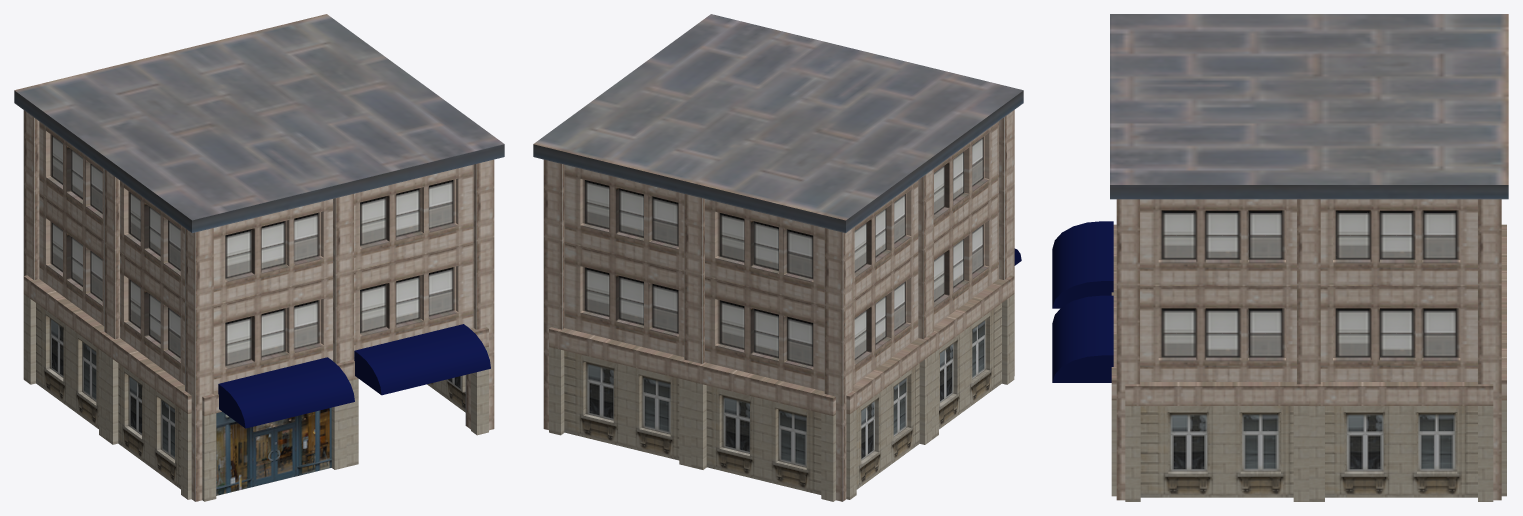
Rendered from game_ready_building_3.glb.
3 views of the same model, side by side, from view 1: azimuth 30°, elevation 25°; view 2: azimuth 150°, elevation 25°; view 3: azimuth 270°, elevation 25° (orthographic). The views are drawn at different scales.
Visible parts, largest first — view 1: atlas.037; view 2: atlas.037; view 3: atlas.037.
Part boxes in pixels (bbox=[...]): atlas.037: bbox=[14, 14, 504, 501]; atlas.037: bbox=[533, 14, 1023, 501]; atlas.037: bbox=[1052, 14, 1508, 501].
Bounding box in the file's own units: 0.1087 × 0.0947 × 0.1226.
2 materials, 2 textured.
